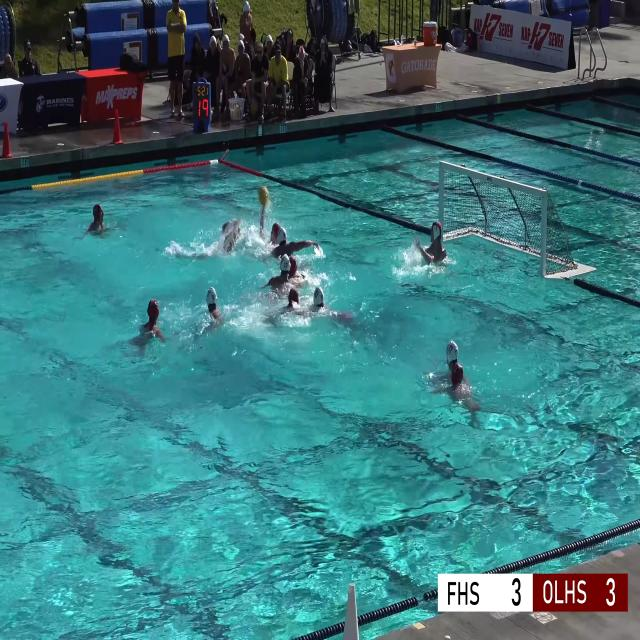ball: (259, 187, 269, 205)
